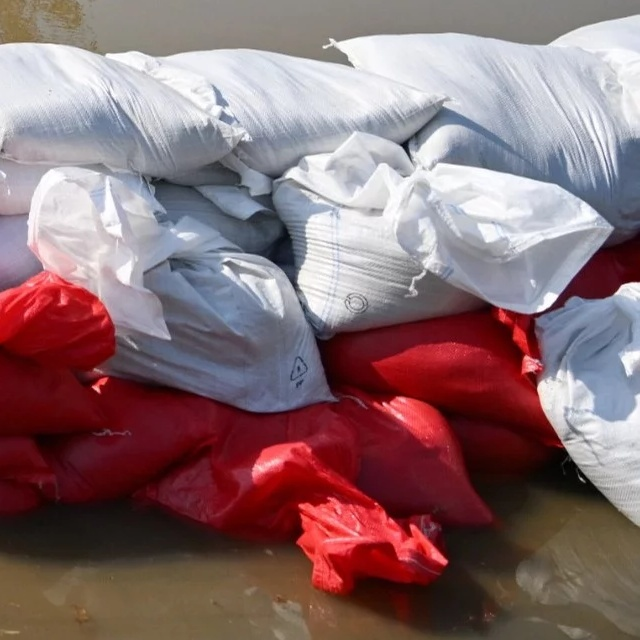sandbag: (29, 170, 330, 411), (272, 132, 611, 339), (333, 34, 640, 239), (108, 51, 444, 177), (0, 42, 246, 179), (536, 284, 640, 527), (323, 321, 549, 432), (41, 374, 228, 500), (340, 390, 490, 526), (0, 274, 115, 436), (550, 15, 640, 102)
